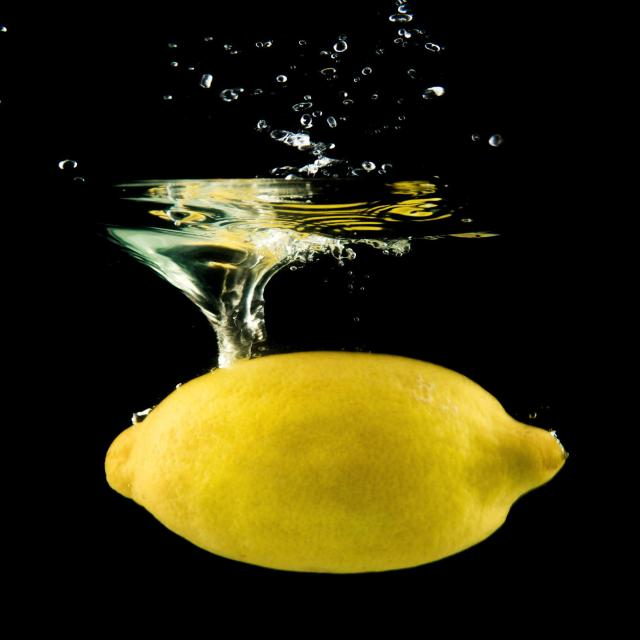lemon: (90, 344, 579, 577)
